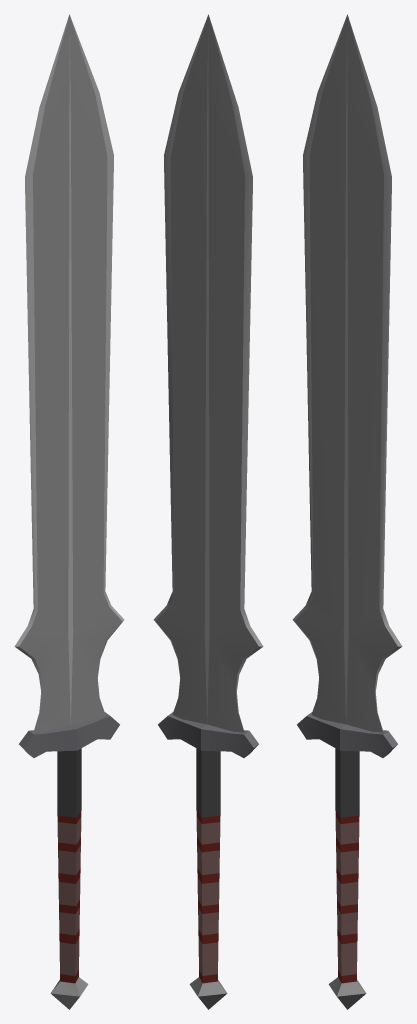
Rendered from Sword_8.fbx.
The picture shows the model from 3 angles, left to right: view 1: azimuth 30°, elevation 25°; view 2: azimuth 150°, elevation 25°; view 3: azimuth 330°, elevation 25°; orthographic projection.
Parts seen in each view (by area): view 1: polySurface469; view 2: polySurface469; view 3: polySurface469.
Part boxes in pixels (box(x1,y1,x2,y2)): polySurface469: box(14, 14, 124, 1009); polySurface469: box(153, 14, 263, 1009); polySurface469: box(292, 14, 402, 1009).
Size of the model in its own units: 58.89 by 509 by 19.78.
